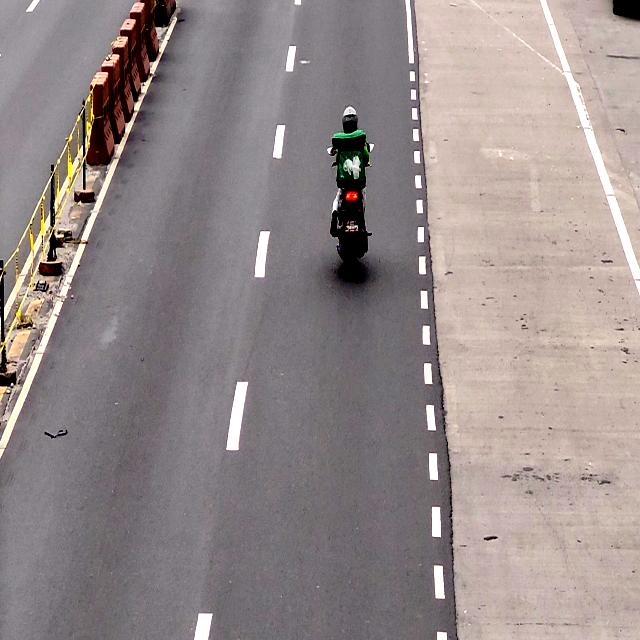Motorcycle: (331, 103, 372, 278)
